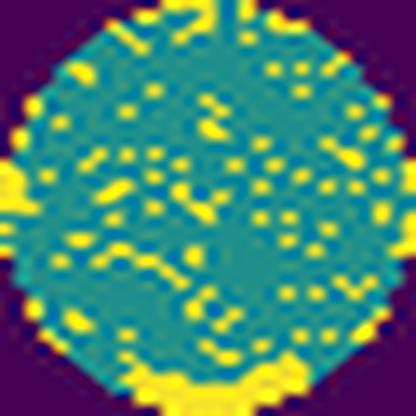Edge-Loc: (115, 343, 316, 416), (0, 156, 43, 218)
